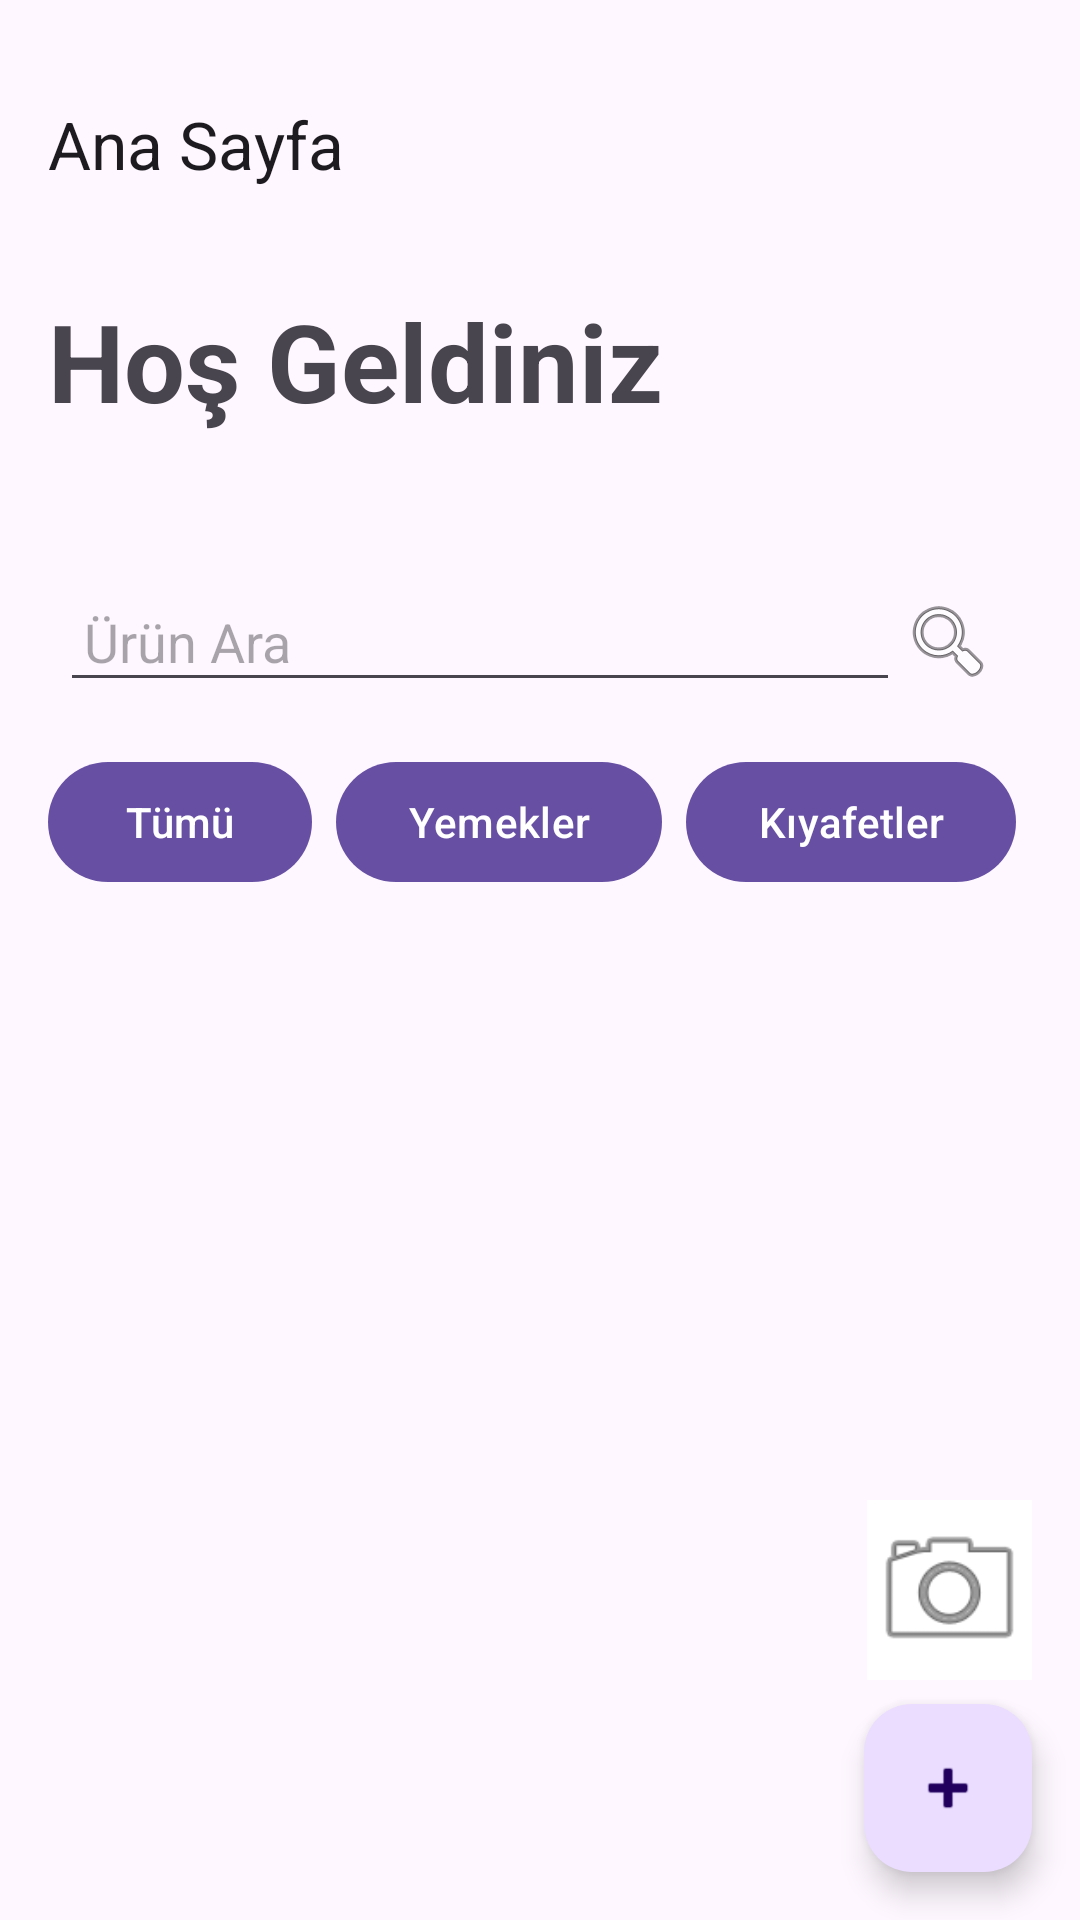

Where to tap for icons on this 1080x1920 app screen, as point (x, y):
add: point (948, 1788)
camera: point (949, 1587)
search: point (948, 641)
